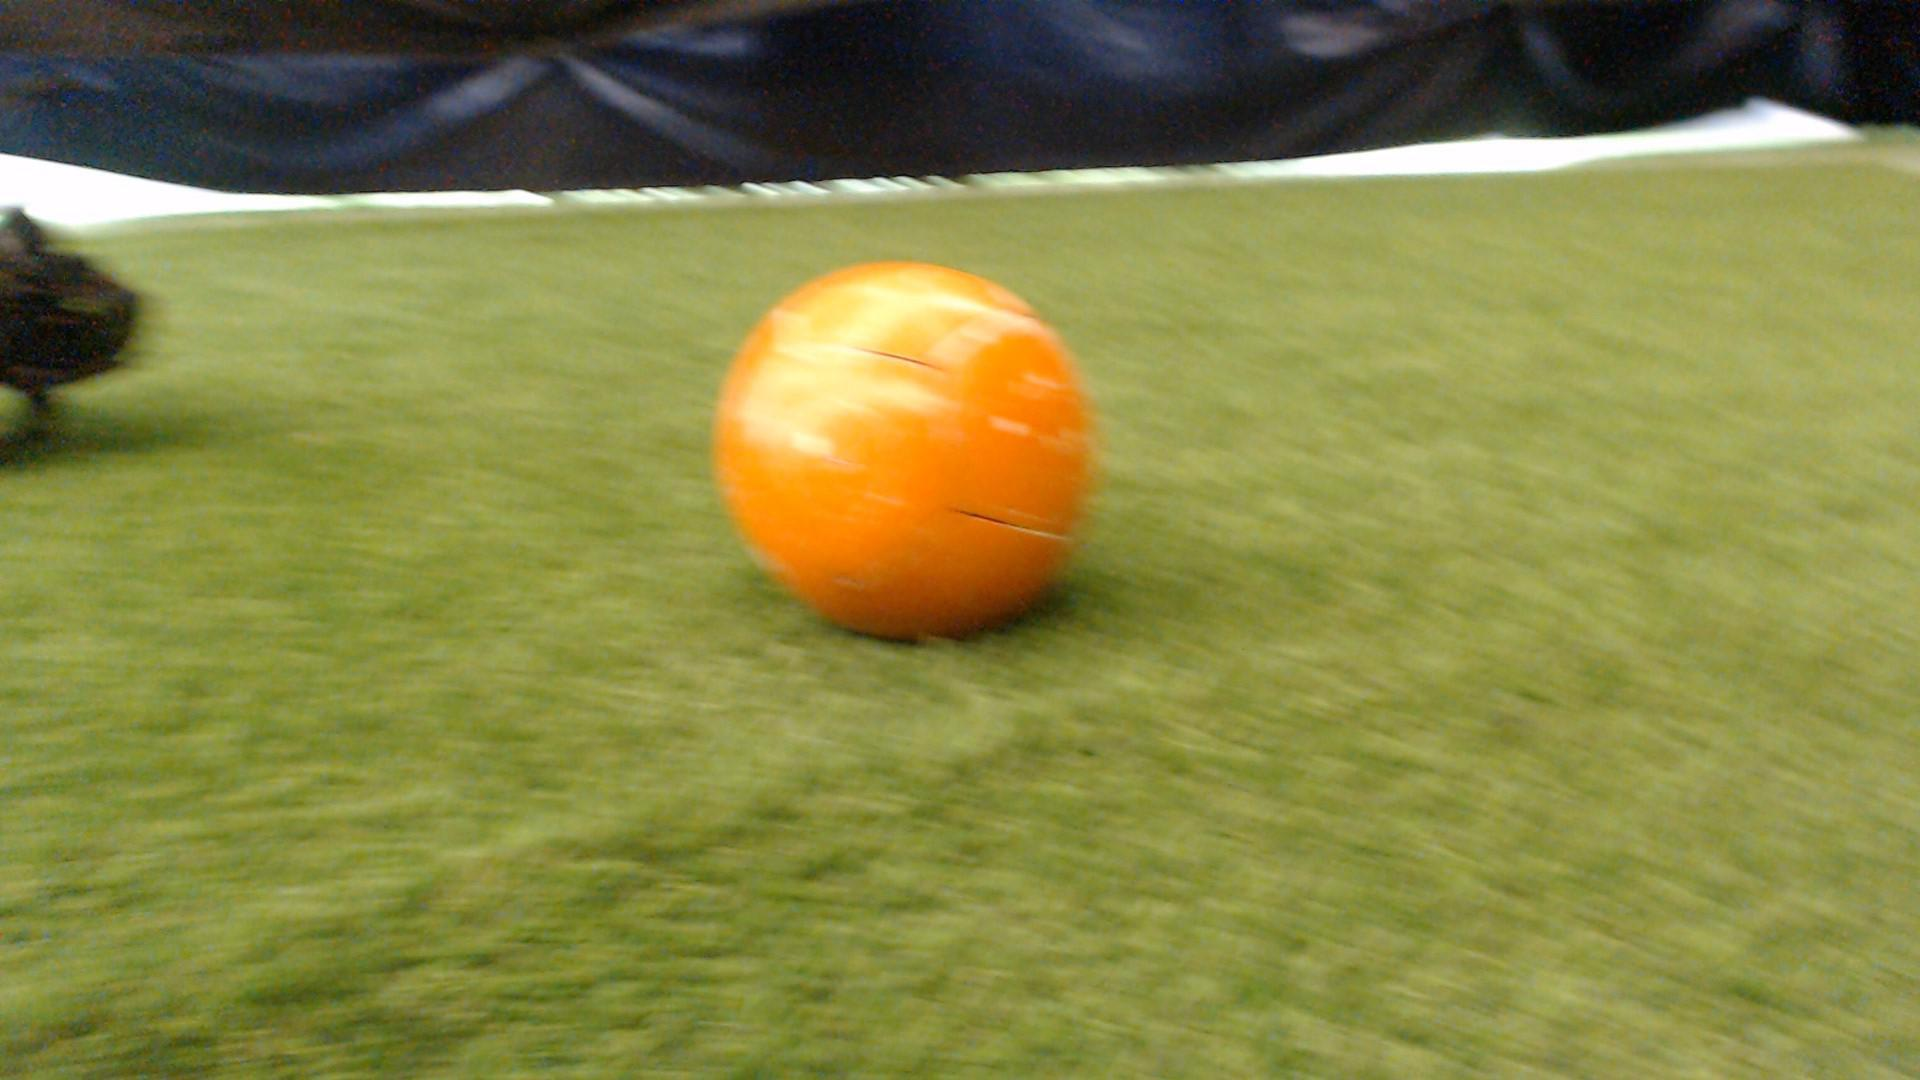bola: (702, 252, 1127, 659)
